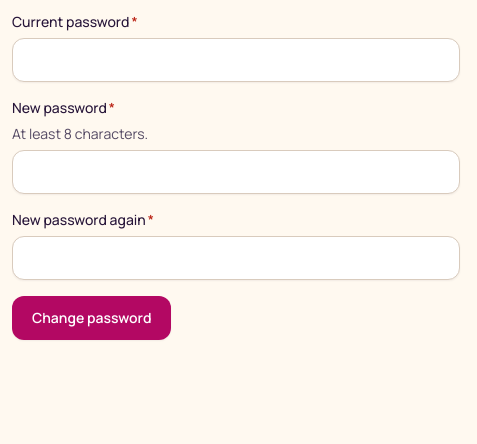
Scenario: ChangePassword › reports a wrong current password in the API’s words, not as a lost session
This screenshot has width=477, height=444.
Type "wrong-password" into the password field labelled "Current password*". click: x=236, y=60
box: [12,38,460,82]
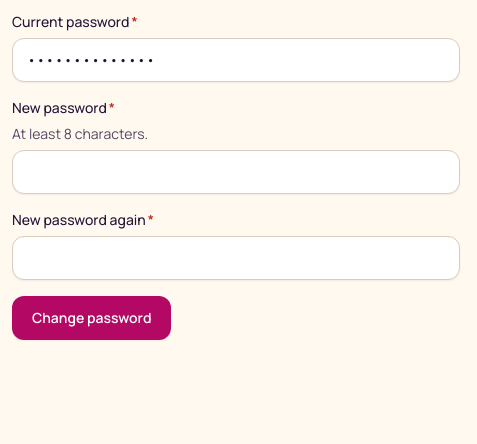
Type "new-password-long" into the password field labelled "New password*". click: x=236, y=172
box: [12,150,460,194]
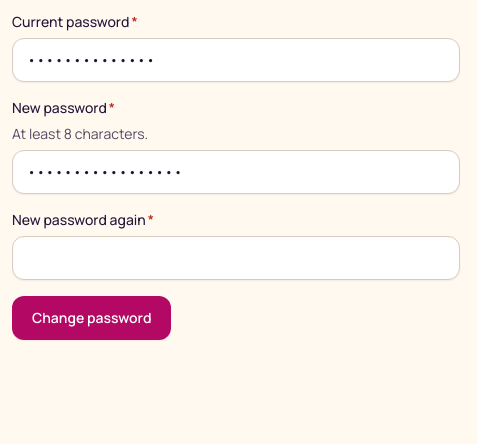
Type "new-password-long" into the password field labelled "New password again*". click: x=236, y=258
box: [12,236,460,280]
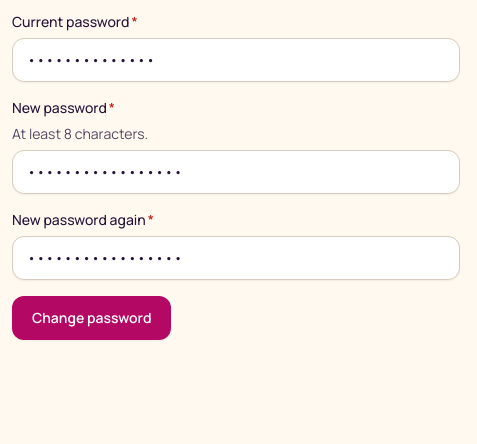
Click the button "Change password". click: x=92, y=318
box: [12,296,171,340]
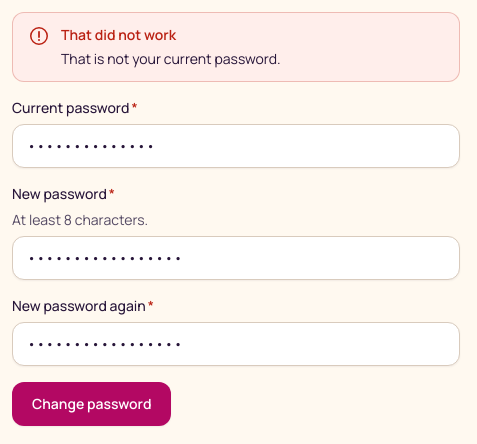
Check: the message shows "That is not your current password.", box [61,49,280,68]
